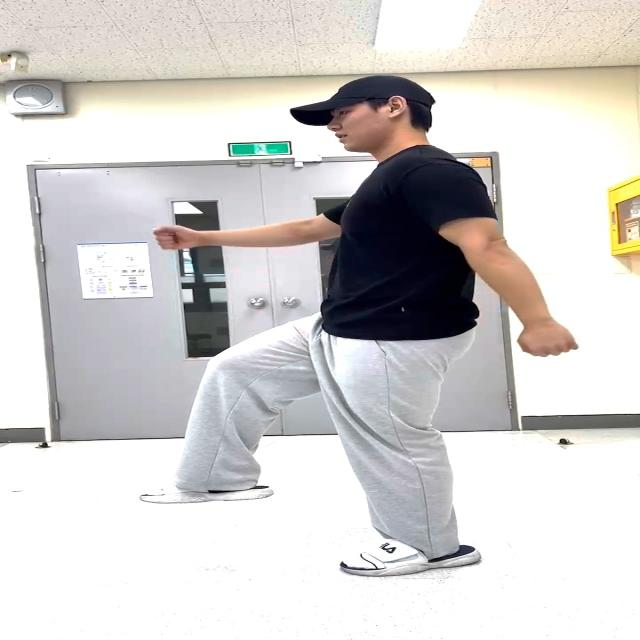leg: (168, 328, 323, 509)
